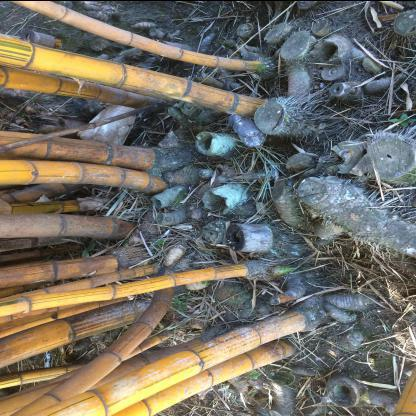plastik: (229, 112, 267, 148)
